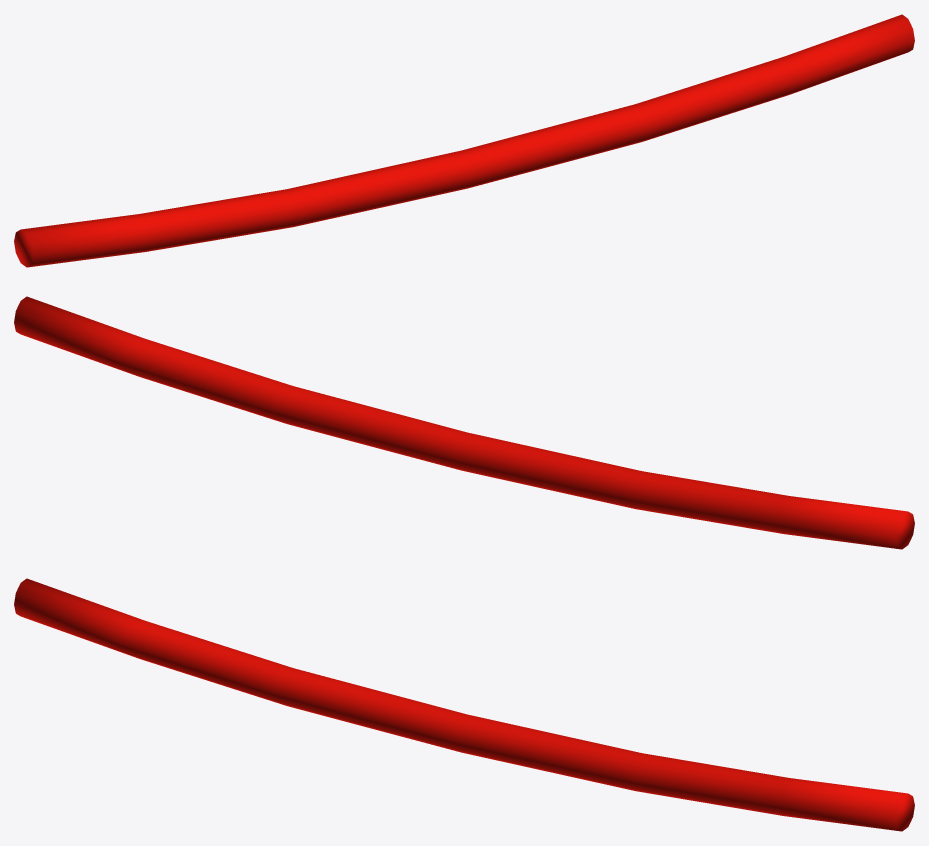
File: Rope_1.fbx
3 renders of one model, top to bottom at view 1: azimuth 30°, elevation 25°; view 2: azimuth 150°, elevation 25°; view 3: azimuth 330°, elevation 25°, orthographic.
Visible parts, largest first — view 1: Rope_1; view 2: Rope_1; view 3: Rope_1.
Part boxes in pixels (box(x1,y1,x2,y2)): Rope_1: box(14, 14, 914, 267); Rope_1: box(14, 296, 914, 549); Rope_1: box(14, 578, 914, 831).
Bounding box in the file's own units: 1479 × 99.78 × 56.77.
